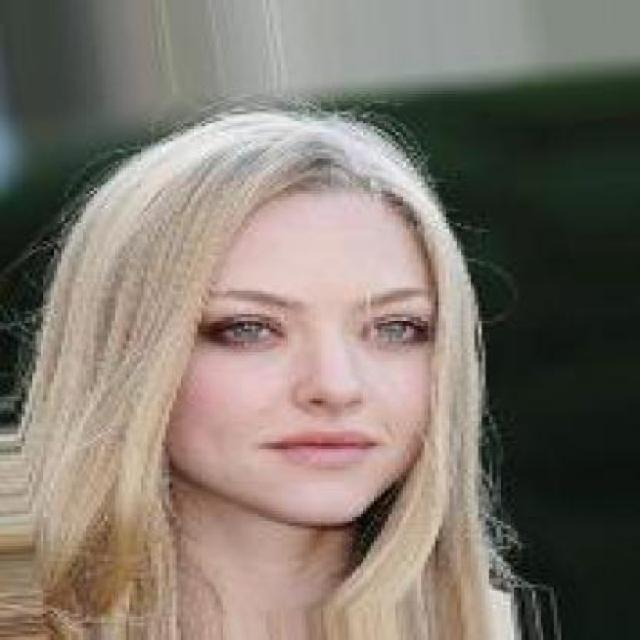closed-mouth: (257, 422, 383, 468)
